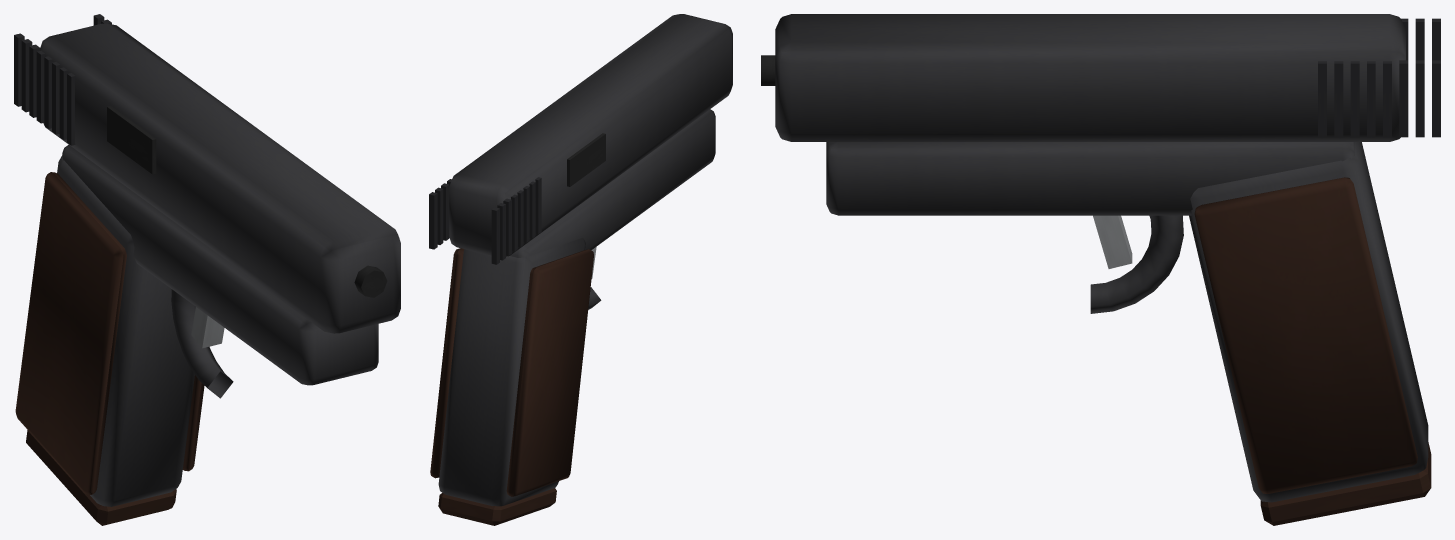
File: OB_Pistolet_PPK.fbx
3 views of the same model, side by side, from view 1: azimuth 30°, elevation 25°; view 2: azimuth 150°, elevation 25°; view 3: azimuth 270°, elevation 25° (orthographic). The views are drawn at different scales.
Visible parts, largest first — view 1: Bron, Zamek, Magazynek, Spust; view 2: Bron, Zamek, Magazynek; view 3: Bron, Zamek, Magazynek, Spust.
Part boxes in pixels (box(x1,y1,x2,y2)): Bron: box(15, 145, 378, 506); Zamek: box(14, 14, 400, 333); Magazynek: box(26, 430, 176, 525); Spust: box(191, 307, 224, 348); Bron: box(430, 109, 715, 506); Zamek: box(429, 14, 732, 264); Magazynek: box(438, 488, 556, 525); Bron: box(826, 142, 1428, 502); Zamek: box(761, 14, 1440, 141); Magazynek: box(1260, 442, 1431, 525); Spust: box(1093, 215, 1132, 268).
Bounding box in the file's own units: 0.0336 × 0.1303 × 0.1671.
